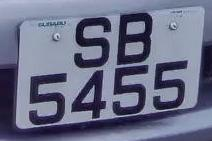4: (67, 63, 113, 125)
5: (25, 67, 71, 127), (106, 63, 154, 118), (149, 57, 189, 115)
B: (110, 6, 158, 70)
S: (63, 11, 117, 74)
